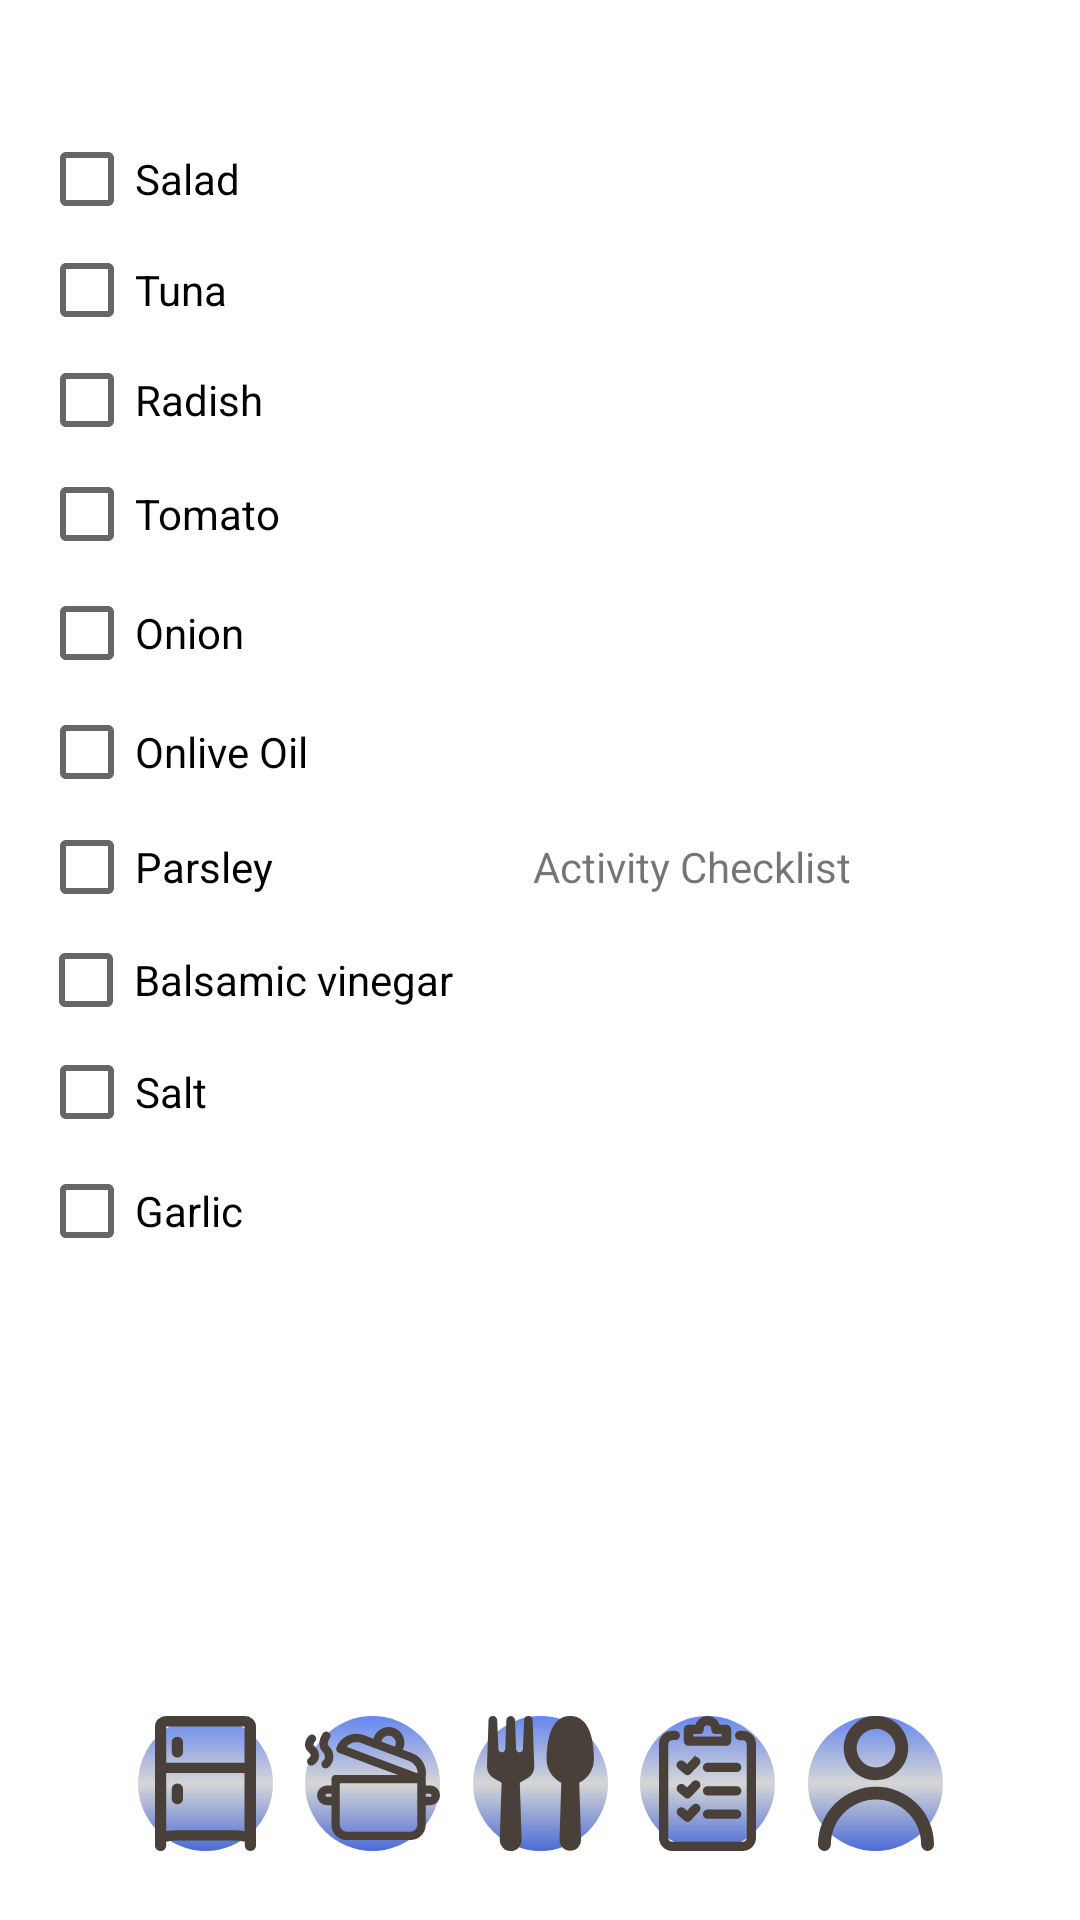

Where to tap for icons on this 1080px×1920px app screen, as (x=x, y=y):
checklist: (x=707, y=1783)
cooking list: (x=372, y=1783)
fridge: (x=205, y=1783)
user info: (x=875, y=1783)
